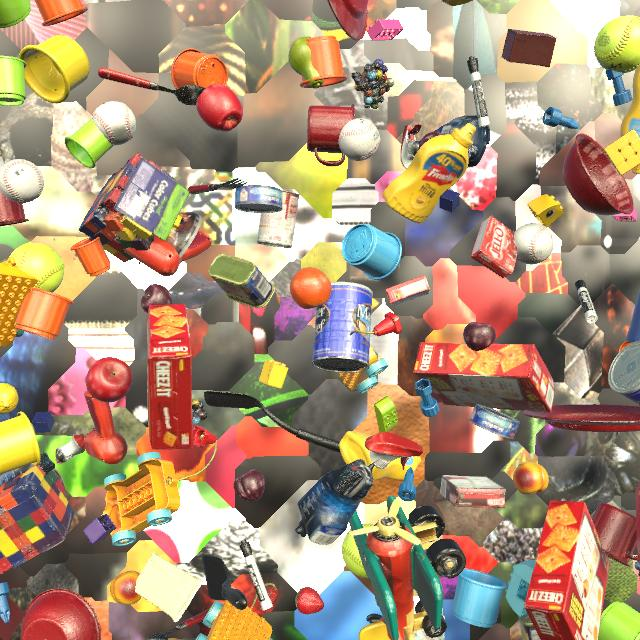ycb_002_master_chef_can: (312, 282, 373, 373), (608, 341, 640, 405)
ycb_003_cracker_box: (524, 501, 610, 640), (413, 342, 555, 413), (147, 304, 193, 450), (636, 482, 640, 562)
ycb_004_sugar_box: (0, 152, 4, 168)
ycb_005_tomato_soup_can: (257, 190, 299, 248)
ycb_006_mustard_bottle: (382, 123, 476, 223), (339, 431, 421, 480), (620, 64, 640, 174), (441, 0, 473, 6)
ycb_007_tuna_fish_can: (469, 404, 519, 439), (234, 185, 283, 213)
ycb_008_pudding_box: (440, 475, 506, 508)
ycb_009_gelatin_box: (471, 216, 518, 278), (385, 275, 430, 306)
ycb_010_potted_meat_can: (209, 253, 275, 309), (518, 614, 540, 640)
ycb_012_strawberry: (295, 587, 324, 614)
ycb_013_apple: (196, 84, 243, 132), (86, 357, 132, 403)
ycb_014_lemon: (0, 383, 18, 414)
ycb_015_peach: (513, 462, 549, 494), (110, 570, 141, 605)
ycb_016_pear: (288, 36, 324, 89)
ycb_017_orange: (290, 267, 332, 309)
ycb_018_plum: (234, 469, 265, 502), (463, 322, 496, 351), (141, 284, 172, 313), (419, 132, 443, 149)
